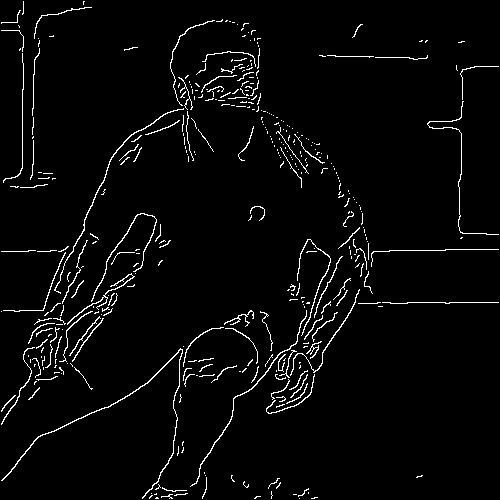mask: (192, 97, 261, 144)
